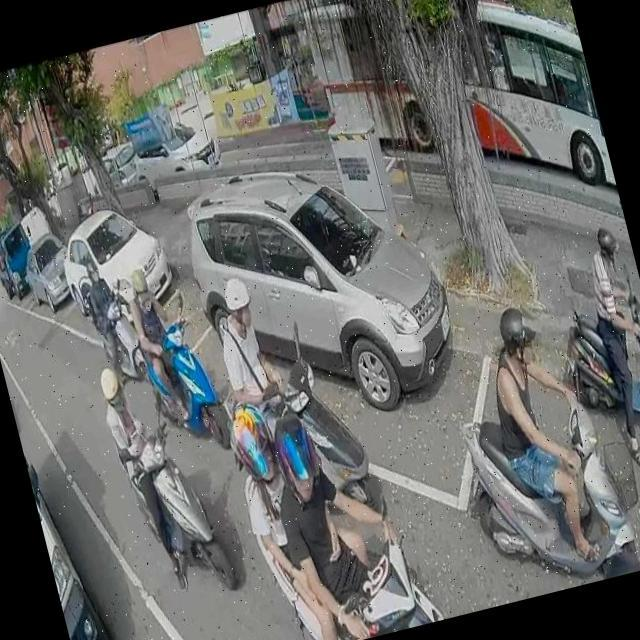person: (256, 387, 436, 640), (469, 286, 621, 580), (223, 377, 382, 640), (94, 350, 198, 598), (568, 215, 640, 474), (122, 249, 206, 427), (205, 267, 294, 433), (78, 254, 134, 386), (590, 532, 640, 580)
